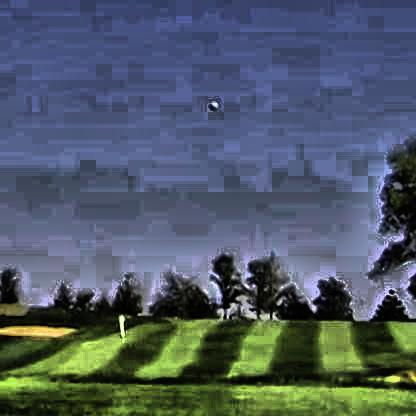golfball: (206, 99, 216, 108)
